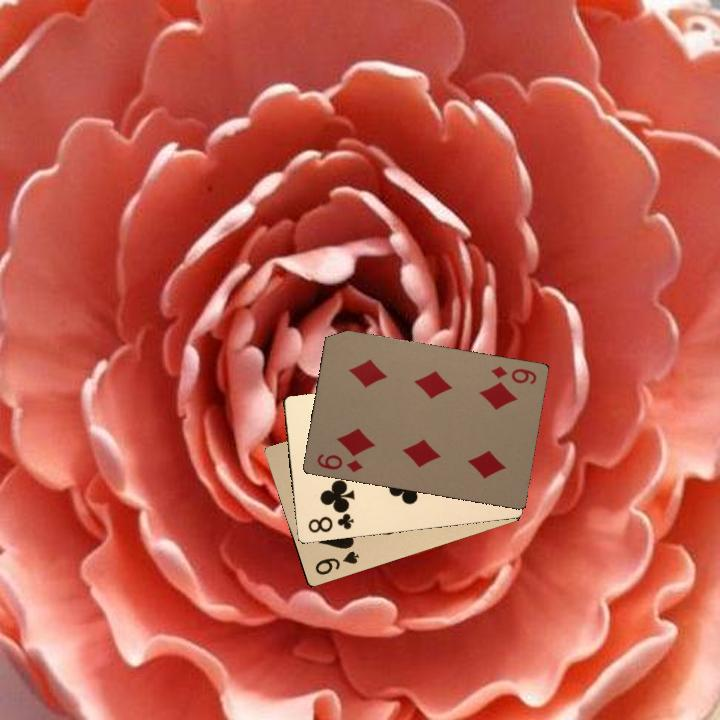6d: (313, 448, 365, 475), (487, 362, 539, 387)
8c: (304, 508, 357, 535)
9s: (311, 547, 361, 577)
